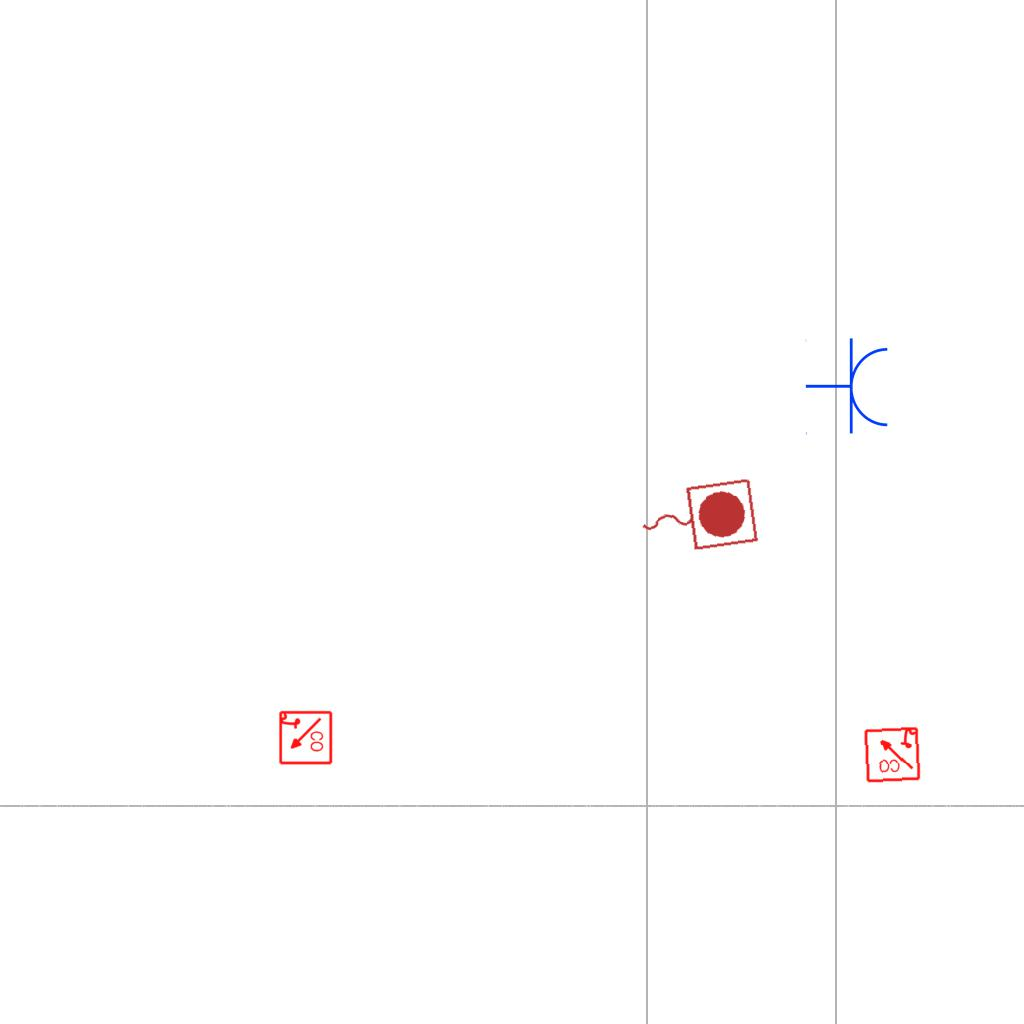ROA_Rauchmelder_optisch_mit_Signalgeber_(Sockelsirene): (862, 724, 922, 784), (277, 710, 333, 766)
Schukosteckdose_einfach: (805, 337, 892, 437)
Zugtaster: (631, 472, 763, 562)
